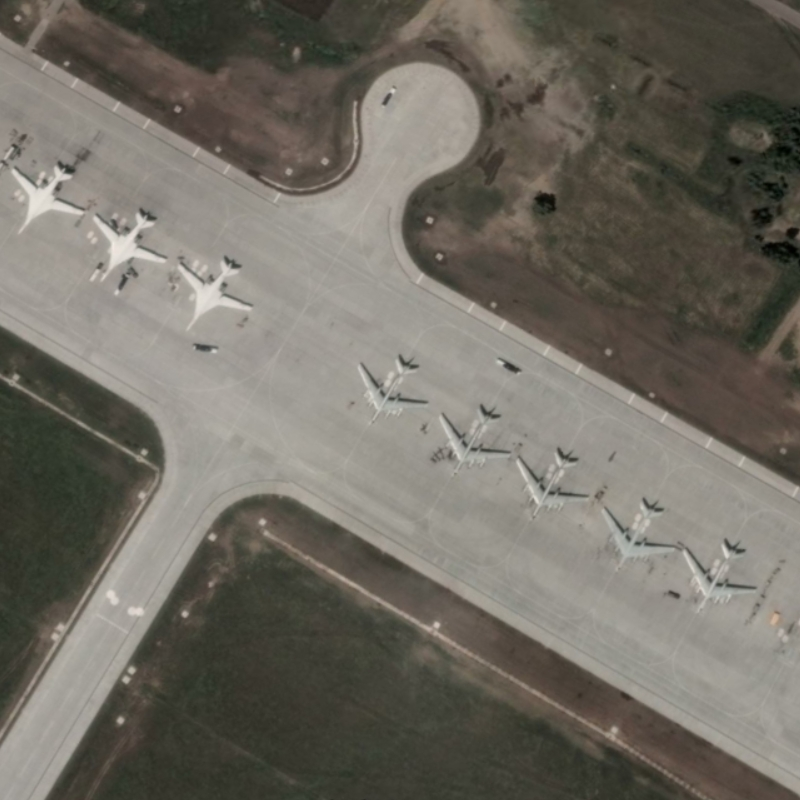A17: (513, 443, 596, 526), (598, 494, 681, 573), (682, 537, 760, 620), (438, 402, 517, 482), (356, 352, 431, 427)
A6: (174, 256, 255, 335), (8, 158, 89, 237), (91, 206, 169, 287)
